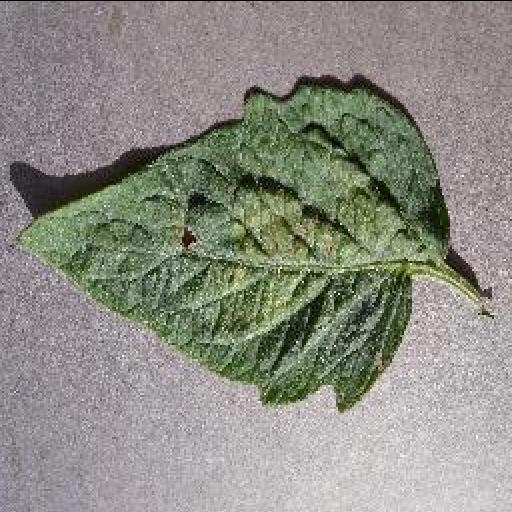disease_tomato: (9, 78, 451, 416)
